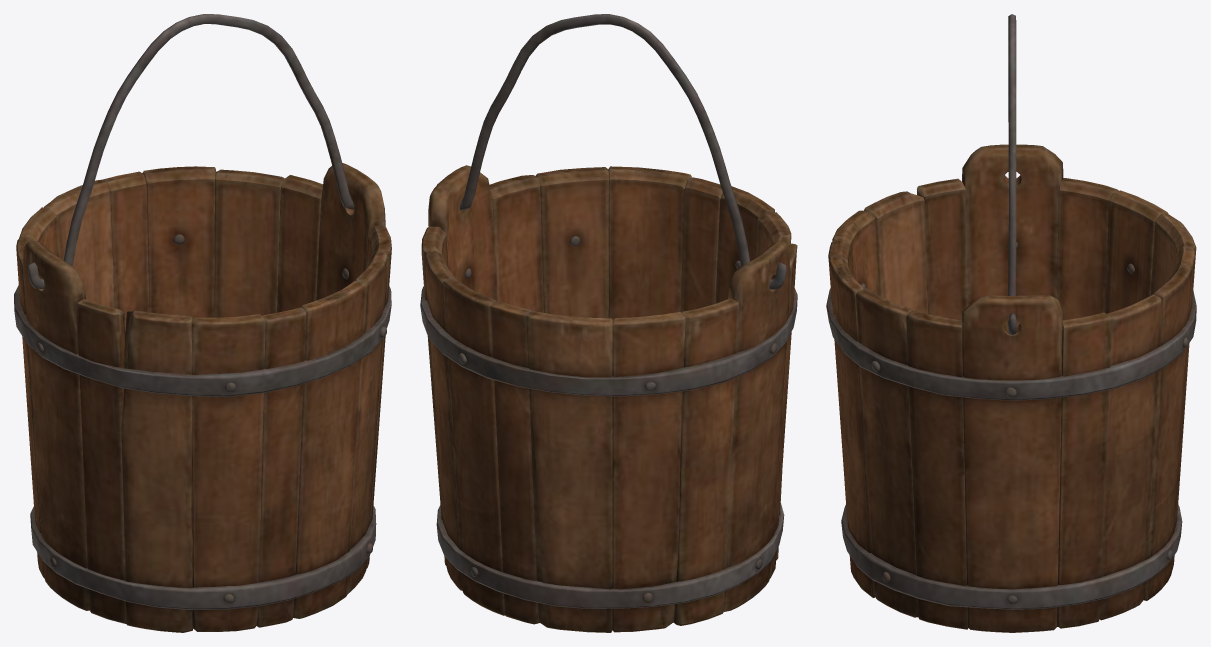
File: wooden_bucket_01.glb
3 renders of one model, left to right at view 1: azimuth 30°, elevation 25°; view 2: azimuth 150°, elevation 25°; view 3: azimuth 270°, elevation 25°, orthographic.
Visible parts, largest first — view 1: wooden_bucket_01, wooden_bucket_01_handle; view 2: wooden_bucket_01, wooden_bucket_01_handle; view 3: wooden_bucket_01, wooden_bucket_01_handle.
Part boxes in pixels (x1,y1,x2,y2): wooden_bucket_01: [14, 163, 391, 632]; wooden_bucket_01_handle: [27, 14, 354, 289]; wooden_bucket_01: [420, 165, 797, 632]; wooden_bucket_01_handle: [437, 14, 786, 289]; wooden_bucket_01: [826, 144, 1196, 632]; wooden_bucket_01_handle: [1008, 14, 1016, 335].
Size of the model in its own units: 0.367 by 0.5499 by 0.3422.
Materials: 1 (1 with a texture image).
